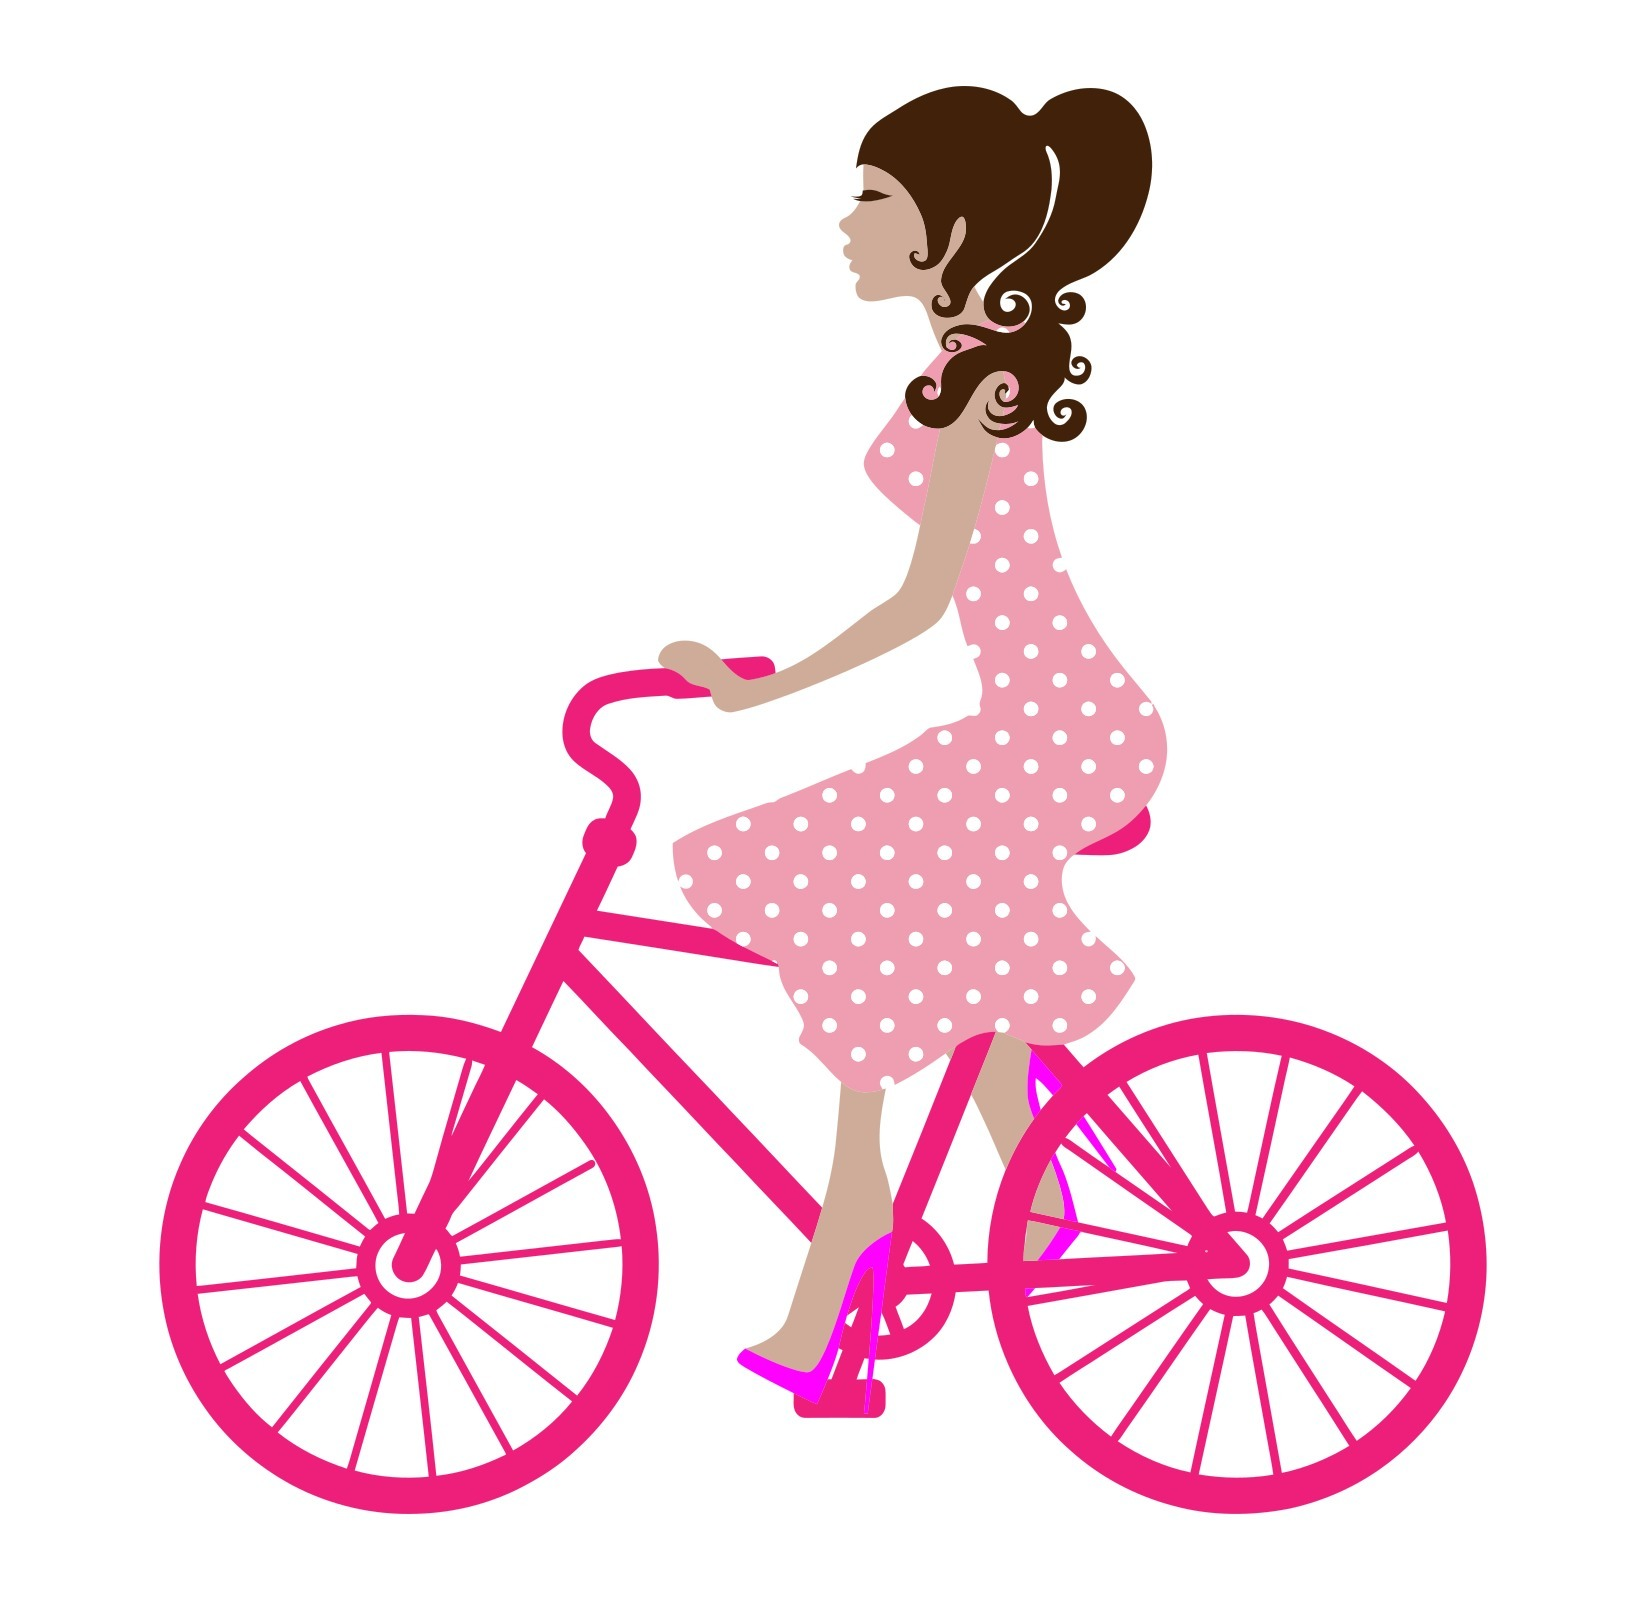bicycle: (155, 641, 1509, 1495)
person: (655, 39, 1165, 1421)
